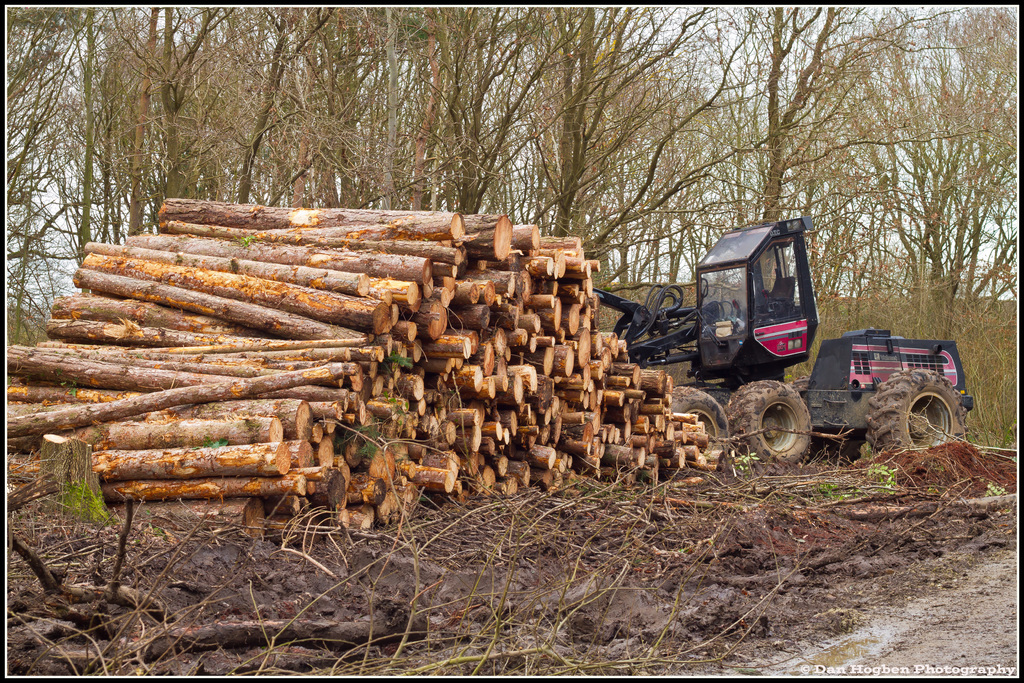Tree: (0, 0, 1024, 377)
